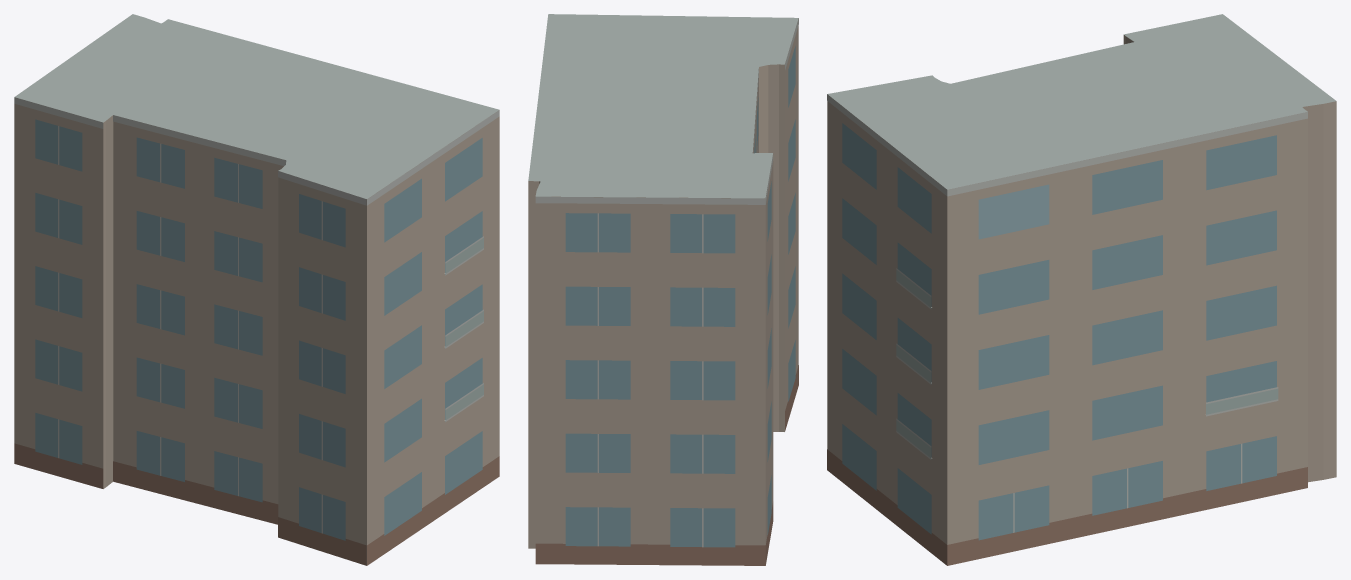
File: survey-upis-32891429.glb
3 renders of one model, left to right at view 1: azimuth 30°, elevation 25°; view 2: azimuth 150°, elevation 25°; view 3: azimuth 270°, elevation 25°, orthographic. The views are drawn at different scales.
Parts seen in each view (by area): view 1: survey-upis-32891429.tmp; view 2: survey-upis-32891429.tmp; view 3: survey-upis-32891429.tmp.
Boxes of the visible parts, x1,y1,x2,y2 form: survey-upis-32891429.tmp: [14, 14, 499, 565]; survey-upis-32891429.tmp: [528, 14, 798, 565]; survey-upis-32891429.tmp: [827, 14, 1336, 565].
Size of the model in its own units: 13.69 by 13.65 by 16.77.
